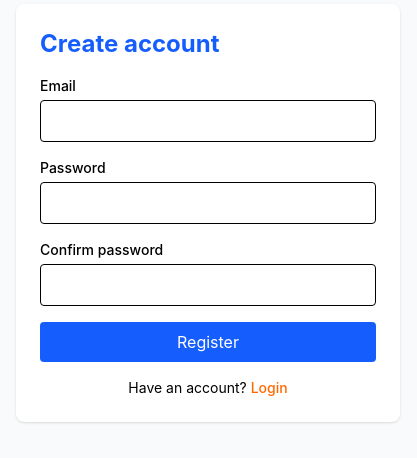
Test case: registers and shows a success message
In the field labelled "Email": (208, 121) [40,100,376,142], type "a@b.com"
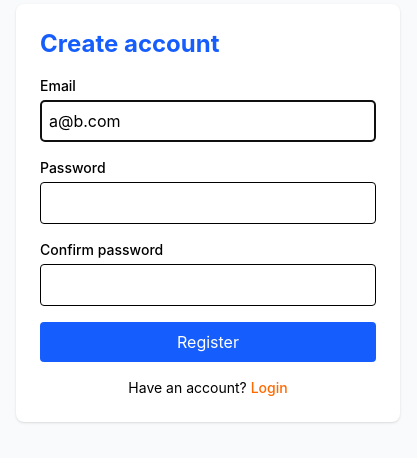
In the password field labelled "Password": (208, 203) [40,182,376,224], type "secret123"
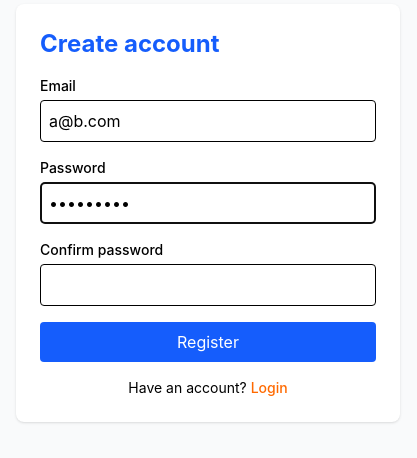
In the password field labelled "Confirm password": (208, 285) [40,264,376,306], type "secret123"
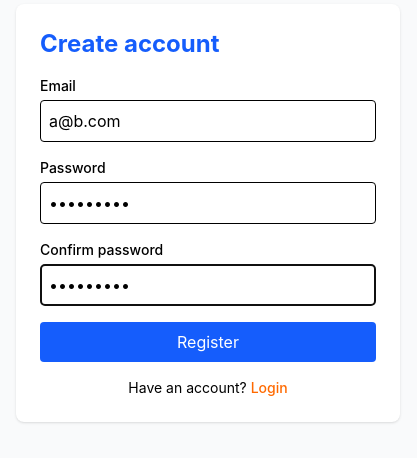
Click the button "Register": (208, 342) [40,322,376,362]
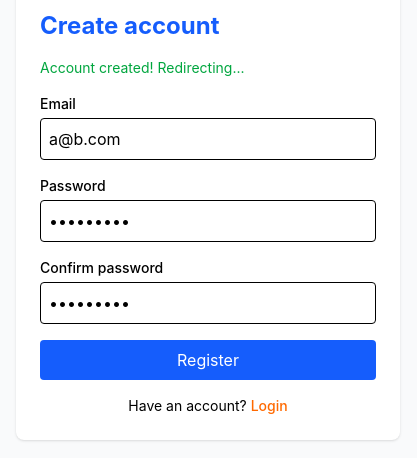
Expected: the message shows "Account created", [40,59,244,76]
